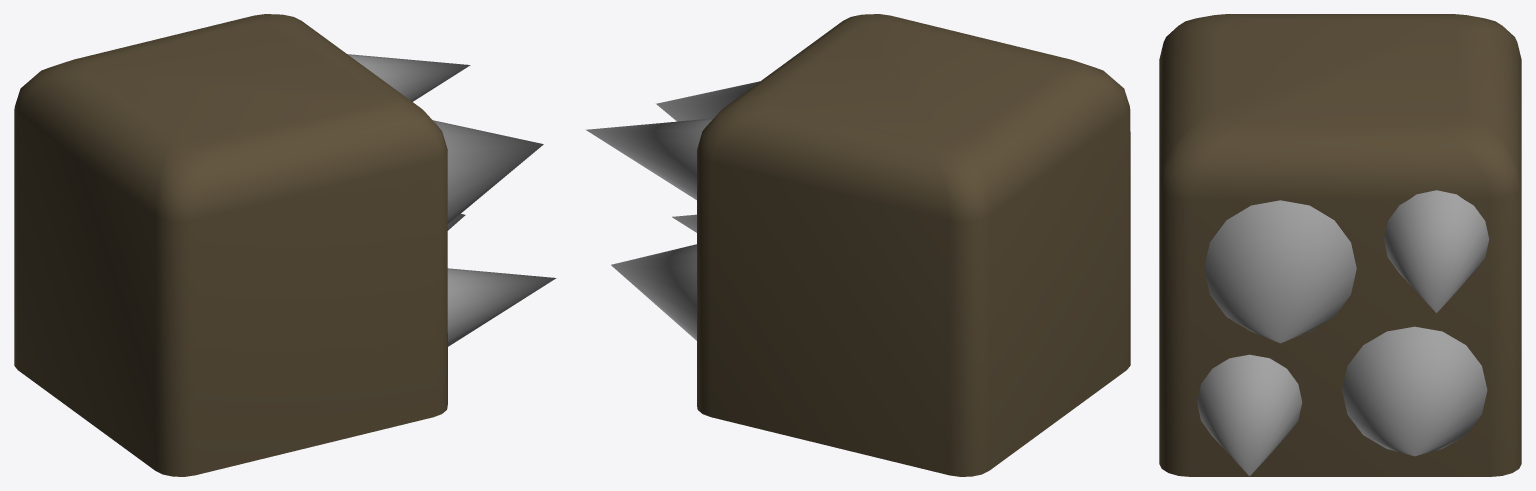
File: Spike.glb
The picture shows the model from 3 angles, left to right: view 1: azimuth 30°, elevation 25°; view 2: azimuth 150°, elevation 25°; view 3: azimuth 270°, elevation 25°; orthographic projection. The views are drawn at different scales.
Visible parts, largest first — view 1: Cube; view 2: Cube; view 3: Cube.
Part boxes in pixels (x1,y1,x2,y2): Cube: (14, 14, 556, 476); Cube: (586, 14, 1130, 476); Cube: (1159, 14, 1521, 476).
Bounding box in the file's own units: 2.98 × 2 × 2.
Materials: 1 (1 with a texture image).
